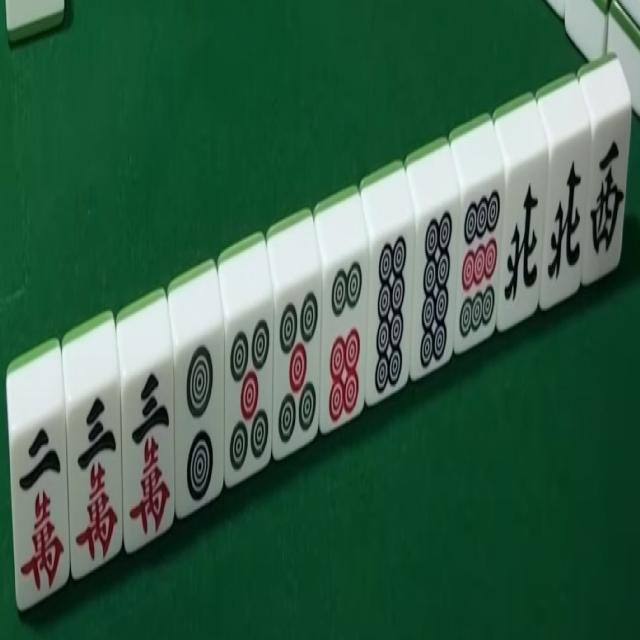m2: (13, 422, 71, 604)
m3: (70, 392, 121, 569), (126, 368, 174, 542)
north: (547, 138, 586, 302), (501, 161, 541, 318)
t2: (179, 335, 222, 514)
t5: (227, 311, 275, 480), (274, 280, 320, 449)
t6: (324, 257, 368, 431)
t8: (372, 224, 412, 396), (416, 205, 456, 372)
t9: (459, 180, 502, 346)
west: (592, 120, 628, 280)
